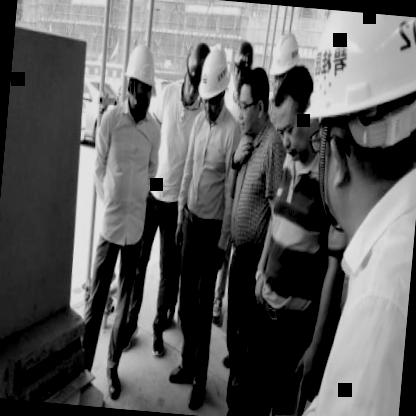head: (274, 60, 318, 162), (233, 62, 274, 139)
helmet: (317, 13, 416, 235), (120, 40, 162, 118), (198, 50, 233, 126), (180, 30, 212, 110), (268, 31, 300, 104), (230, 36, 257, 94)
